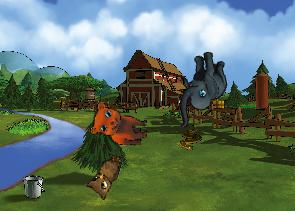bear: (89, 101, 150, 146)
elephant: (166, 48, 235, 128)
owl: (83, 148, 123, 201)
